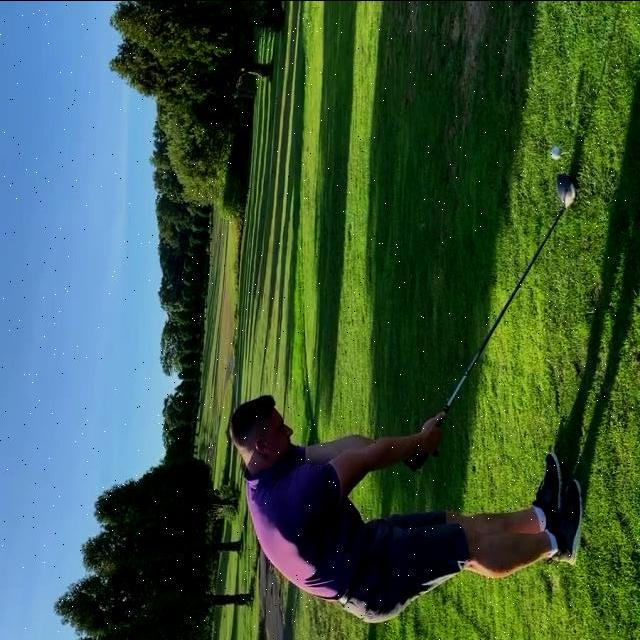golf ball: (551, 146, 561, 159)
golf club-handle: (410, 174, 577, 470)
golf club-head: (558, 174, 578, 207)
